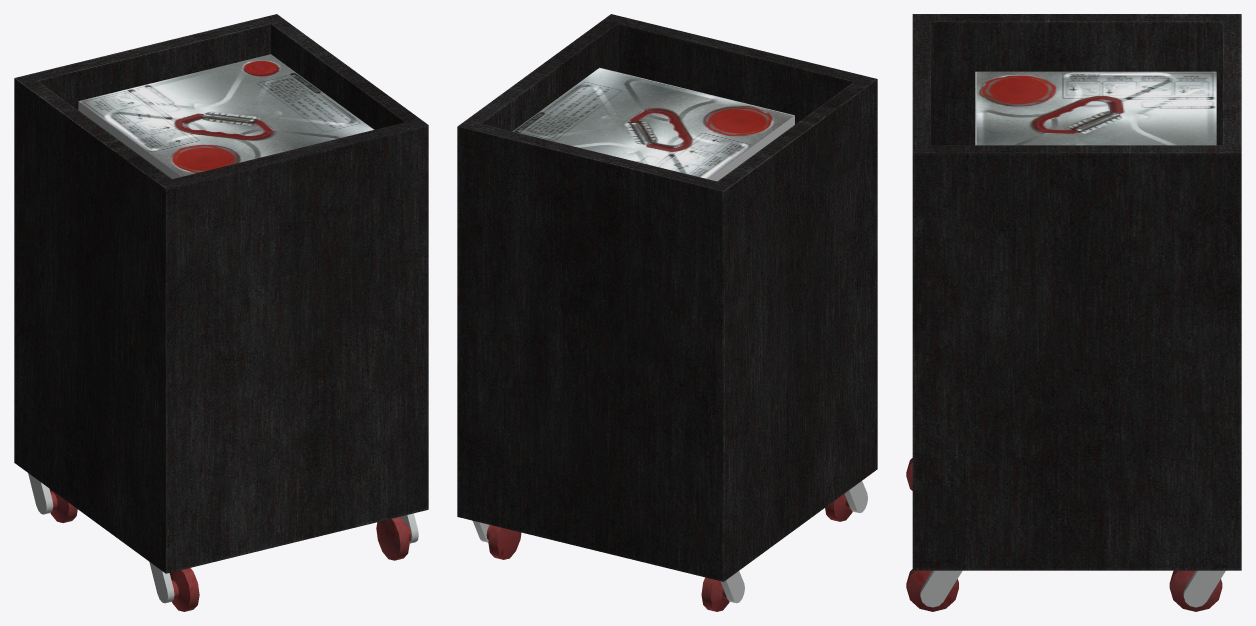
The model's file is LC_3190_Square_barrel_LOD2.FBX.
3 views of the same model, side by side, from view 1: azimuth 30°, elevation 25°; view 2: azimuth 150°, elevation 25°; view 3: azimuth 270°, elevation 25° (orthographic). The views are drawn at different scales.
Visible parts, largest first — view 1: LC_3190_Square_barrel_LOD2; view 2: LC_3190_Square_barrel_LOD2; view 3: LC_3190_Square_barrel_LOD2.
Boxes of the visible parts, box(x1,y1,x2,y2) form: LC_3190_Square_barrel_LOD2: box(14, 14, 428, 611); LC_3190_Square_barrel_LOD2: box(457, 14, 877, 611); LC_3190_Square_barrel_LOD2: box(906, 14, 1241, 611).
Bounding box in the file's own units: 30 × 47.33 × 30.55.
1 material, 1 textured.
